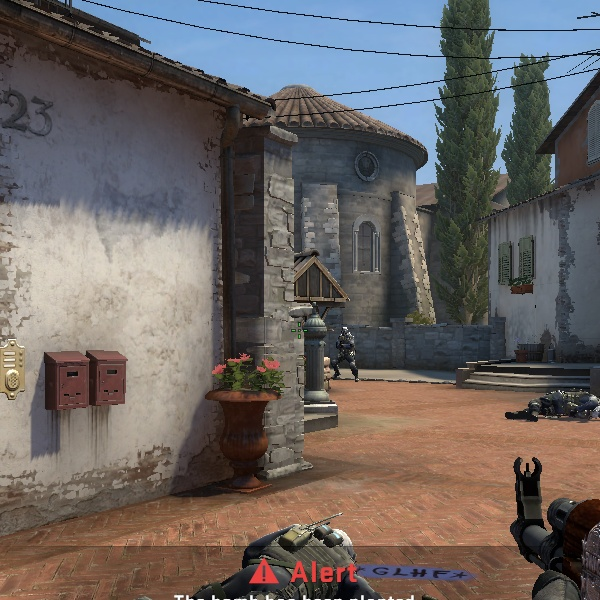ct_body: (329, 326, 361, 382)
